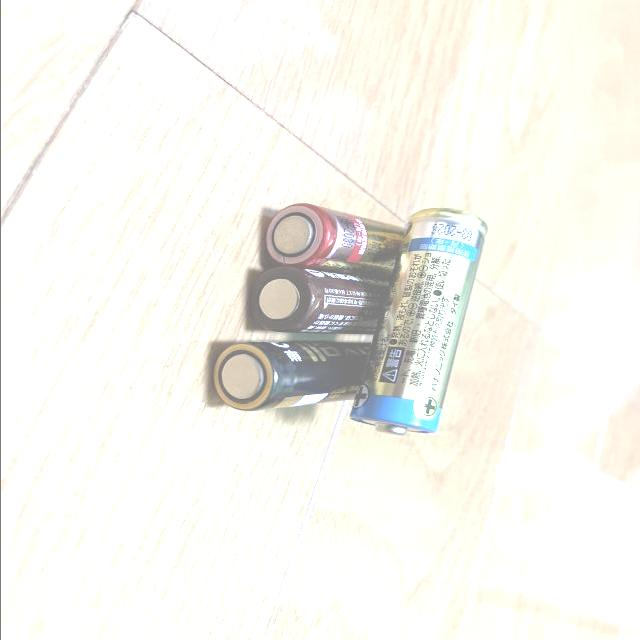AA: (346, 206, 496, 465), (201, 334, 398, 426), (250, 198, 445, 274), (238, 266, 411, 341)
